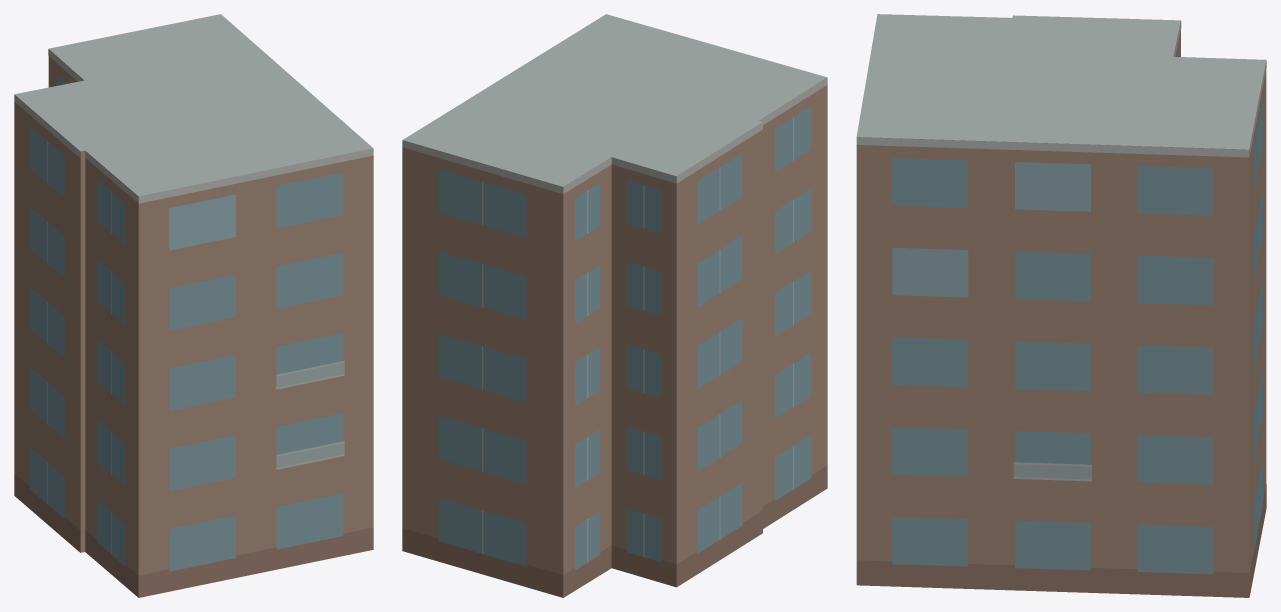
The model's file is survey-upis-32658011.glb.
3 renders of one model, left to right at view 1: azimuth 30°, elevation 25°; view 2: azimuth 150°, elevation 25°; view 3: azimuth 270°, elevation 25°, orthographic. The views are drawn at different scales.
Visible parts, largest first — view 1: survey-upis-32658011.tmp; view 2: survey-upis-32658011.tmp; view 3: survey-upis-32658011.tmp.
Boxes of the visible parts, left/top/right/bottom form: survey-upis-32658011.tmp: left=14, top=14, right=373, bottom=597; survey-upis-32658011.tmp: left=402, top=14, right=827, bottom=597; survey-upis-32658011.tmp: left=856, top=14, right=1266, bottom=597.
Size of the model in its own units: 8.96 by 13.8 by 11.45.
